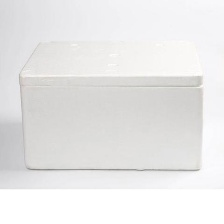foam_box: (11, 31, 211, 177)
